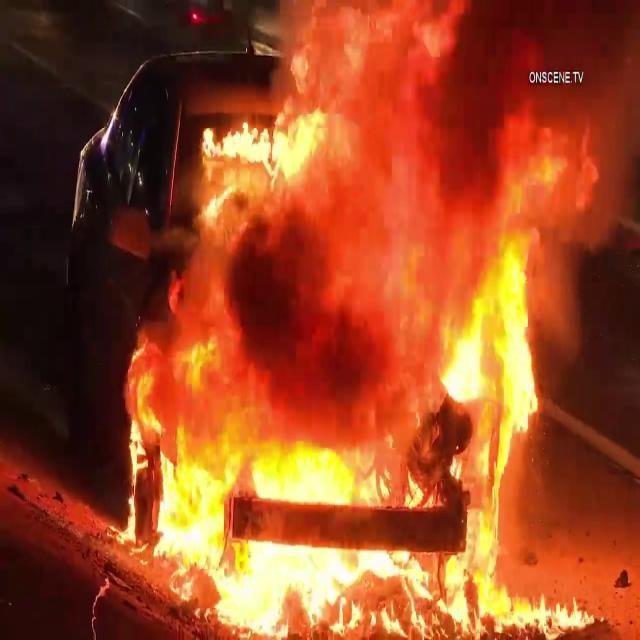Fire: (118, 67, 418, 612), (381, 116, 604, 628)
